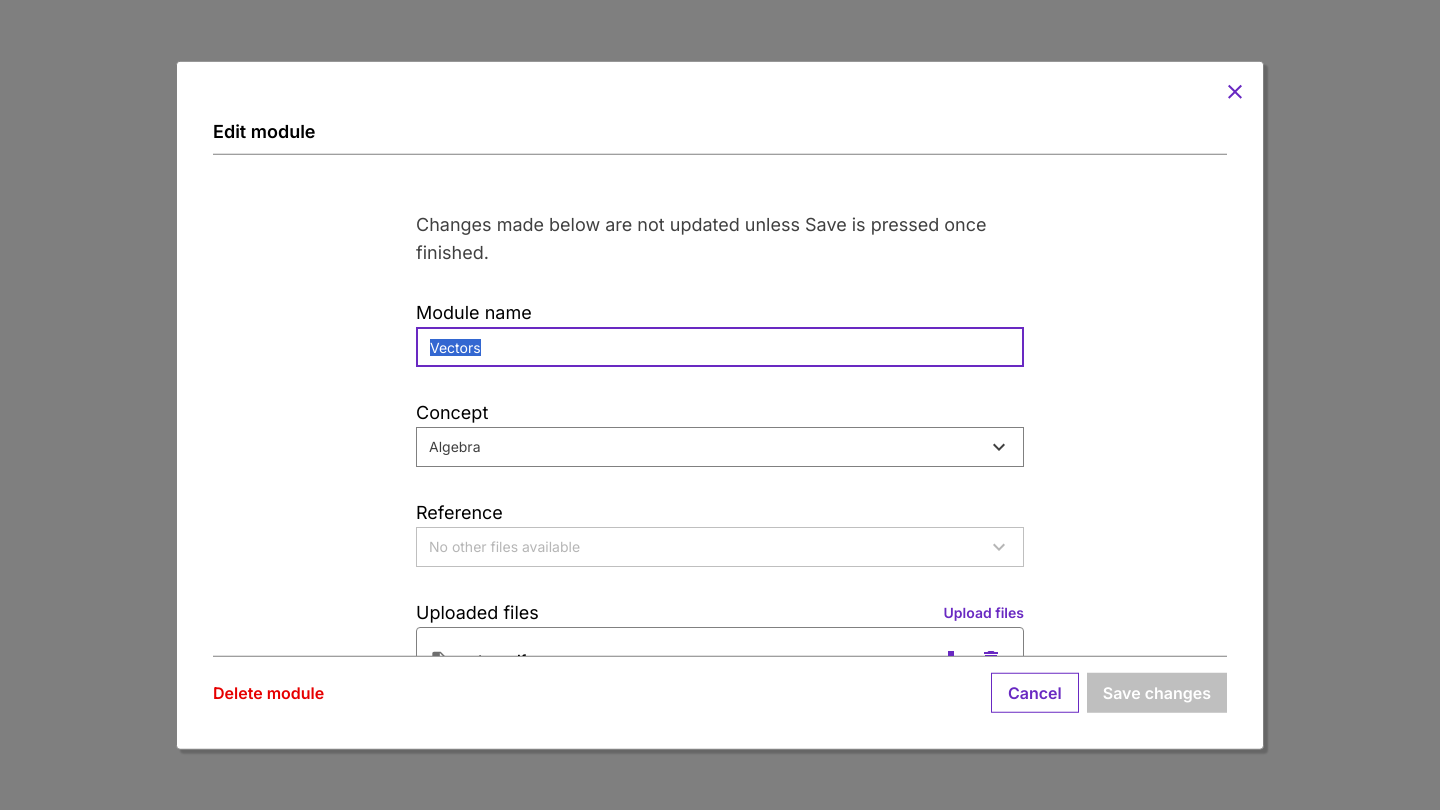
EditModule › keeps Save changes disabled until an edit is made
This screenshot has width=1440, height=810.
Expected: the button "Save changes" is disabled, [1087, 672, 1227, 712]
Type " II" into the field labelled "Module name".
click(720, 347); type(" II")  # box [416, 327, 1024, 367]
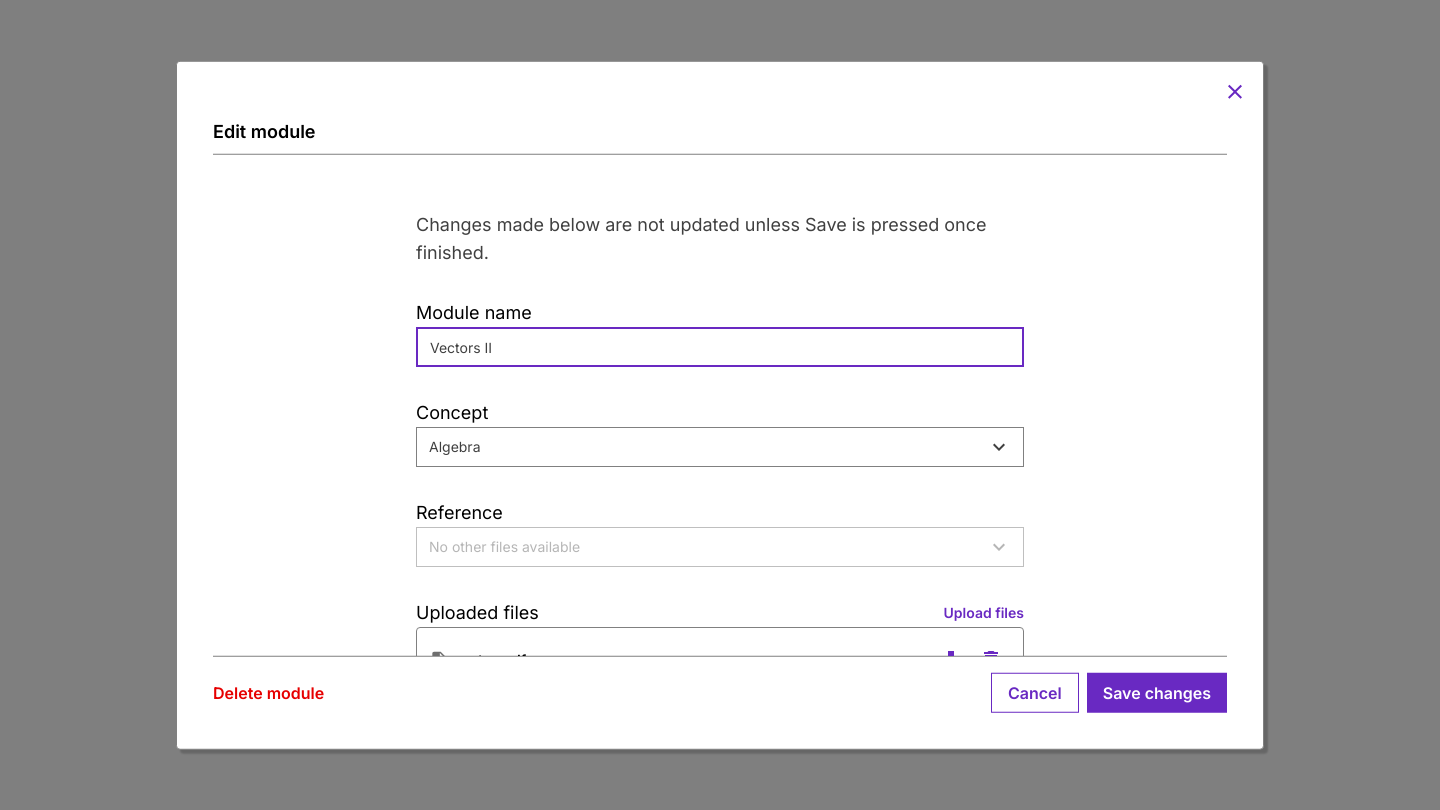
Expected: the button "Save changes" is enabled, [1087, 672, 1227, 712]
